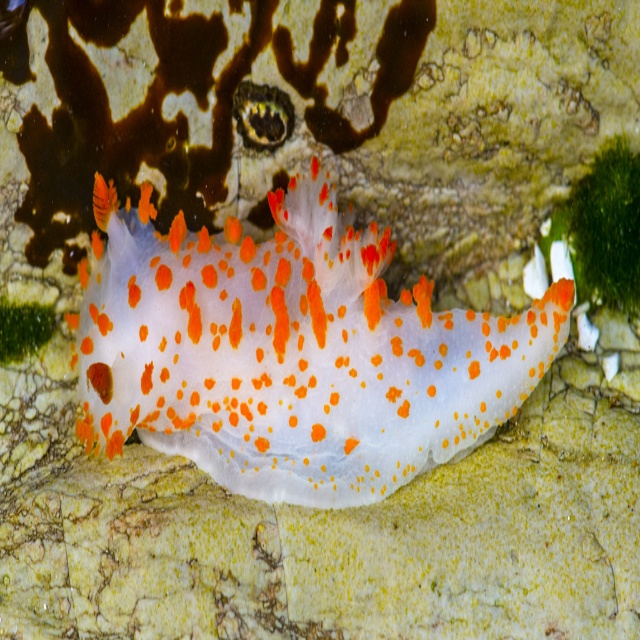Fish: (63, 154, 575, 510)
